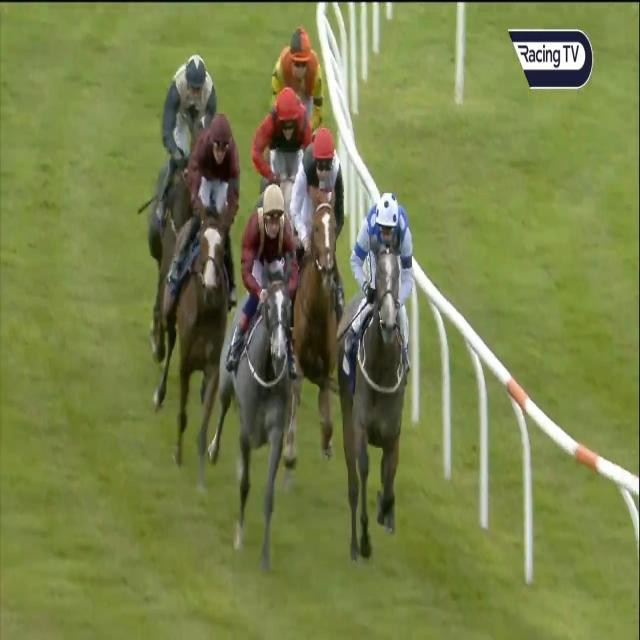horses-racing: (157, 112, 241, 476), (334, 189, 414, 569), (221, 191, 292, 576), (290, 127, 343, 470), (147, 45, 225, 160), (248, 89, 323, 196), (267, 26, 329, 135)
